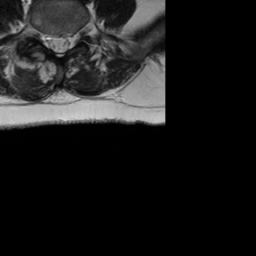CCS_normal: (55, 25, 64, 64)
LFS_normal: (73, 21, 82, 47)
LLS_normal: (64, 25, 73, 58)
RFS_normal: (36, 20, 45, 49)
RLS_normal: (46, 23, 55, 57)
